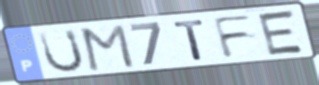7: (126, 20, 165, 68)
E: (255, 8, 307, 58)
F: (211, 13, 256, 61)
M: (80, 22, 137, 73)
T: (172, 18, 208, 62)
U: (37, 27, 87, 75)
